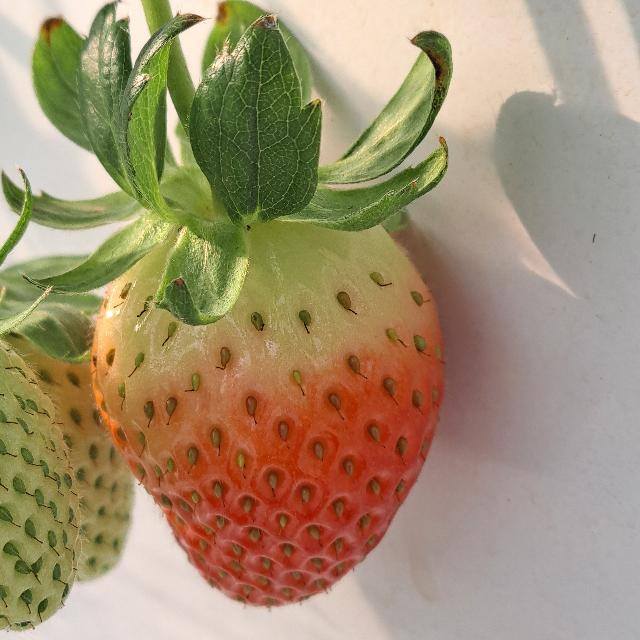Health_25: (0, 330, 84, 636)
Health_75: (90, 224, 444, 606)
